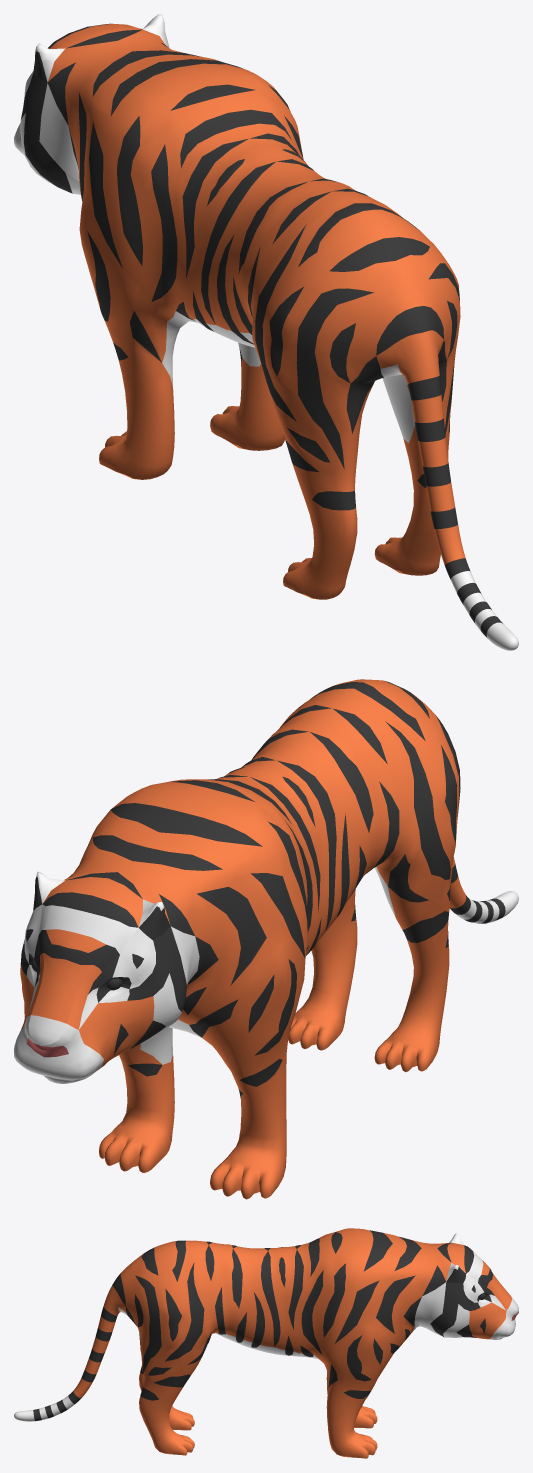
File: Tigre.fbx
3 views of the same model, one above another, from view 1: azimuth 30°, elevation 25°; view 2: azimuth 150°, elevation 25°; view 3: azimuth 270°, elevation 25° (orthographic). The views are drawn at different scales.
Visible parts, largest first — view 1: tiger_001; view 2: tiger_001; view 3: tiger_001.
Part boxes in pixels (box(x1,y1,x2,y2)): tiger_001: box(14, 14, 518, 650); tiger_001: box(14, 679, 518, 1199); tiger_001: box(14, 1228, 518, 1458).
Bounding box in the file's own units: 71.69 × 127 × 290.
1 material, 1 textured.
